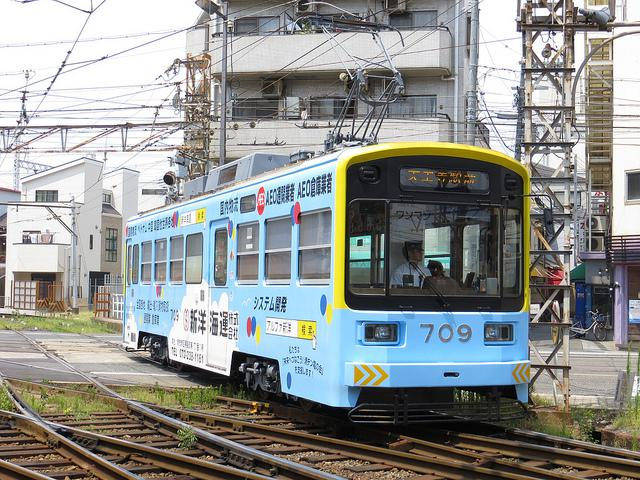Train: (122, 143, 532, 425)
